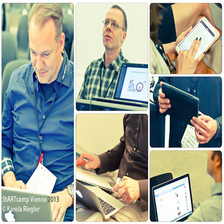laptop: (73, 59, 151, 115), (1, 174, 73, 224)
